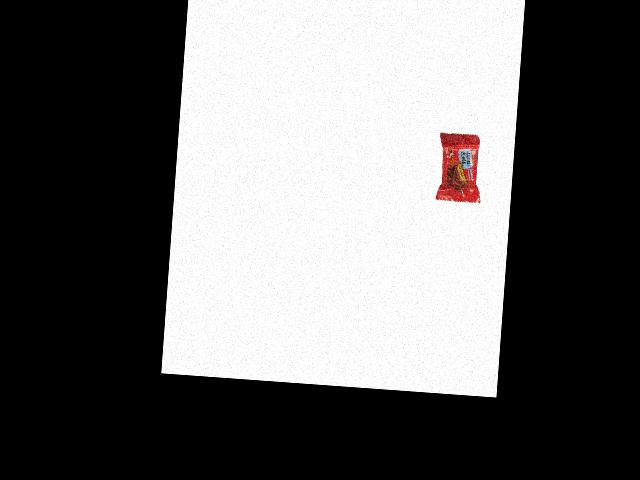chocolate: (436, 126, 489, 204)
